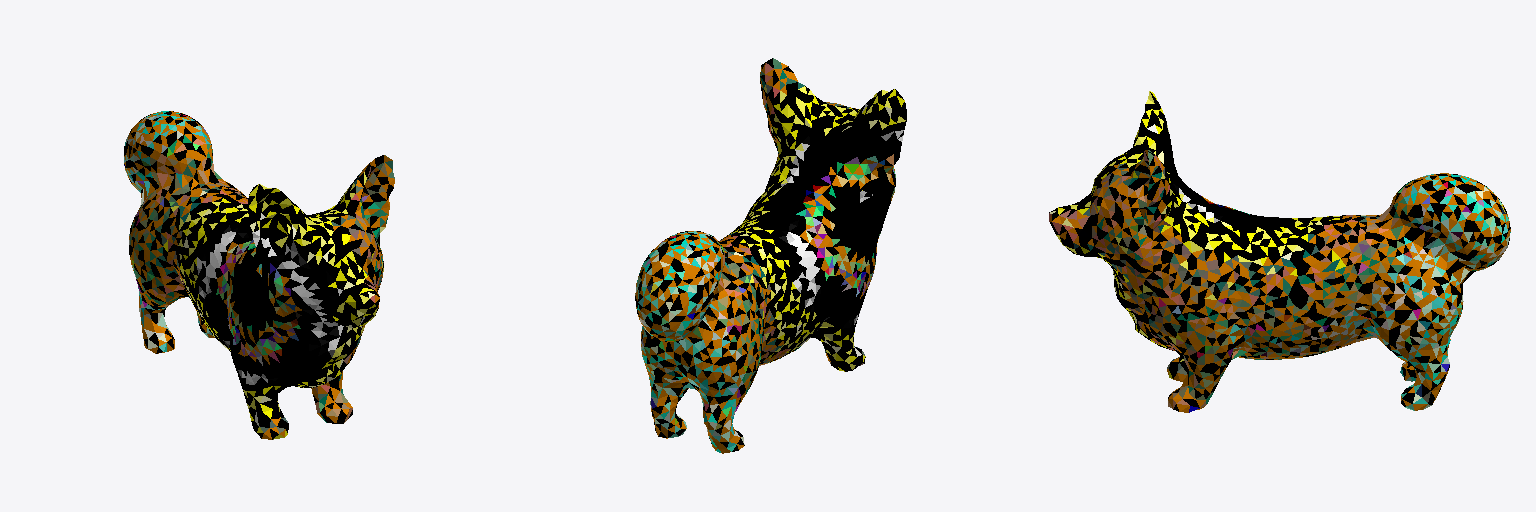
Rendered from corgi-downsampled.obj.
The picture shows the model from 3 angles: view 1: azimuth 30°, elevation 25°; view 2: azimuth 150°, elevation 25°; view 3: azimuth 270°, elevation 25°; orthographic projection.
Bounding box in the file's own units: 0.6925 × 1.22 × 1.89.